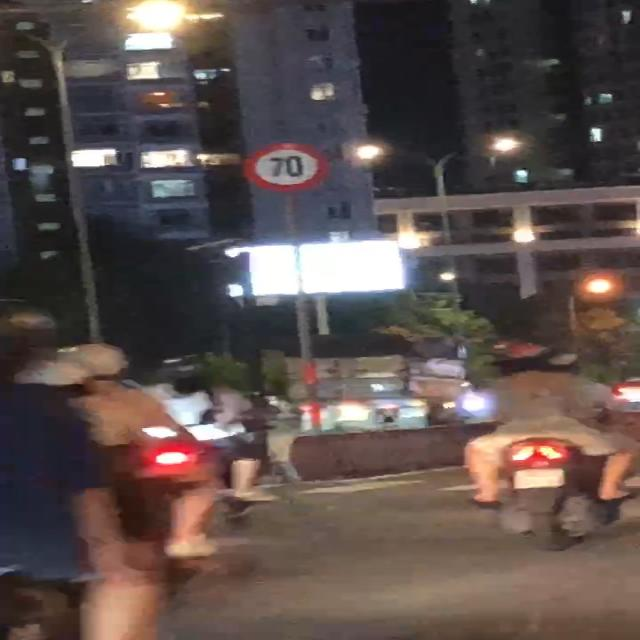Bien bao toc do toi da cho phep: (238, 138, 331, 192)
